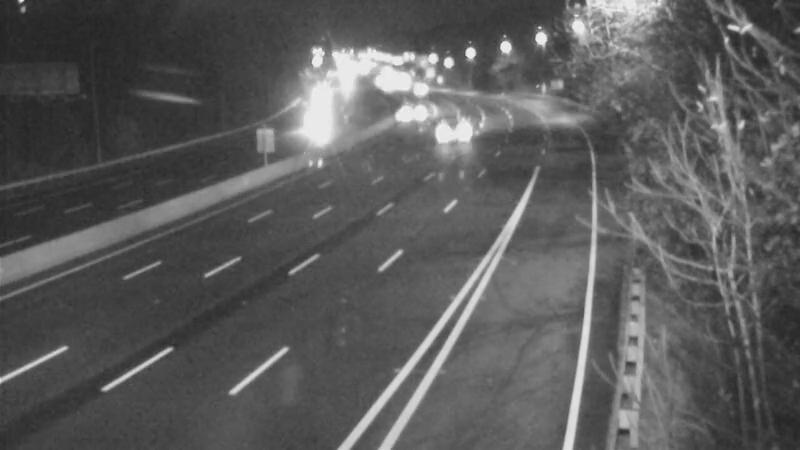vehicle: (393, 66, 443, 116), (382, 91, 432, 141), (425, 103, 475, 153), (284, 104, 334, 154)
